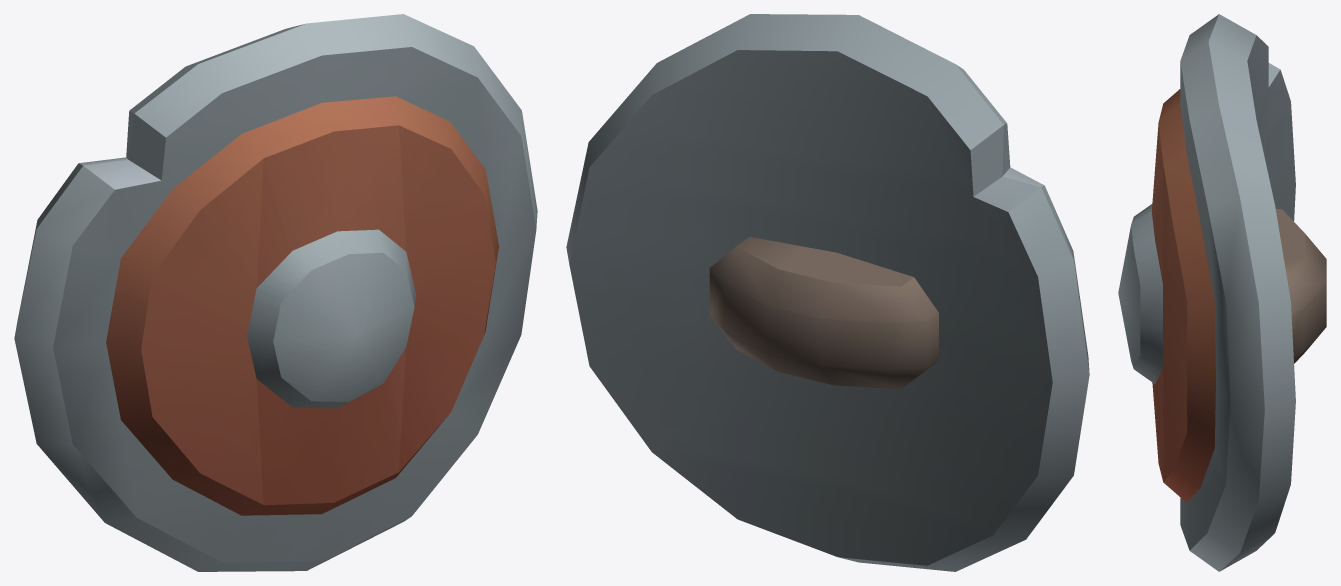
File: shield_round.glb
3 renders of one model, left to right at view 1: azimuth 30°, elevation 25°; view 2: azimuth 150°, elevation 25°; view 3: azimuth 270°, elevation 25°, orthographic. The views are drawn at different scales.
Parts seen in each view (by area): view 1: shield_round; view 2: shield_round; view 3: shield_round.
Part boxes in pixels (box(x1,y1,x2,y2)): shield_round: box(14, 14, 537, 571); shield_round: box(566, 14, 1089, 571); shield_round: box(1118, 14, 1326, 571).
Size of the model in its own units: 0.8826 by 0.8826 by 0.332.
1 material, 1 textured.
